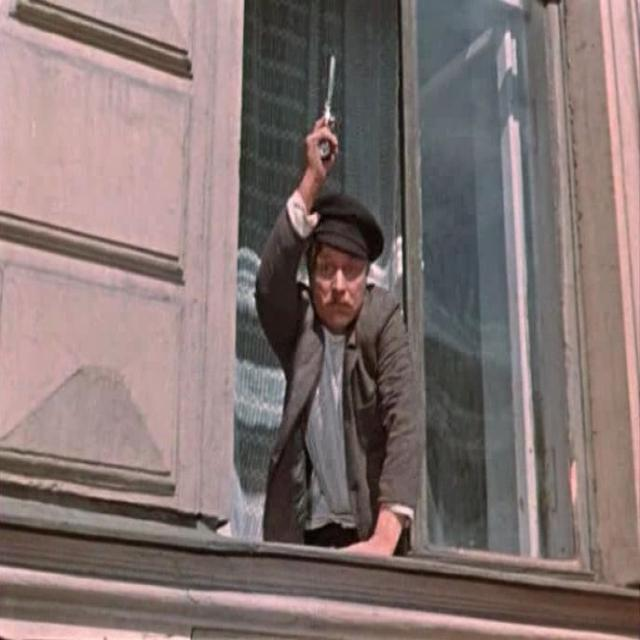gun-knife-thesis - v11 Yolov5 augmented: (294, 47, 349, 173)
